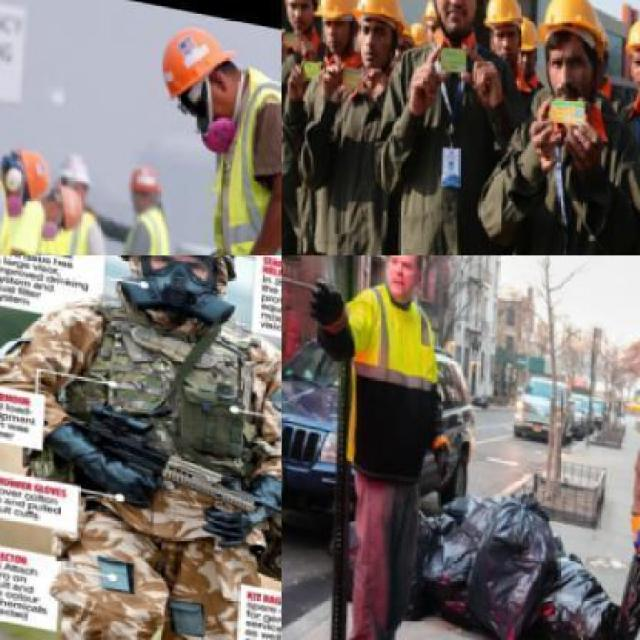vest: (58, 280, 274, 500), (352, 25, 534, 254), (472, 94, 638, 254), (328, 290, 448, 492), (298, 61, 409, 254), (197, 71, 280, 254), (282, 26, 332, 254), (19, 191, 104, 254), (101, 198, 176, 254)
